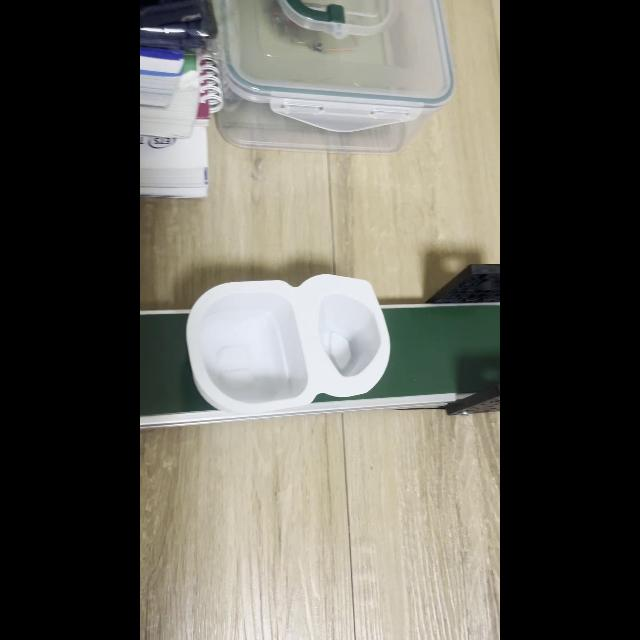clean: (186, 275, 390, 413)
